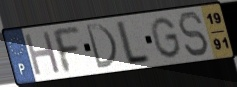D: (83, 22, 119, 70)
F: (48, 26, 82, 76)
G: (149, 15, 183, 60)
H: (22, 29, 62, 78)
L: (116, 19, 152, 68)
S: (176, 10, 211, 58)
